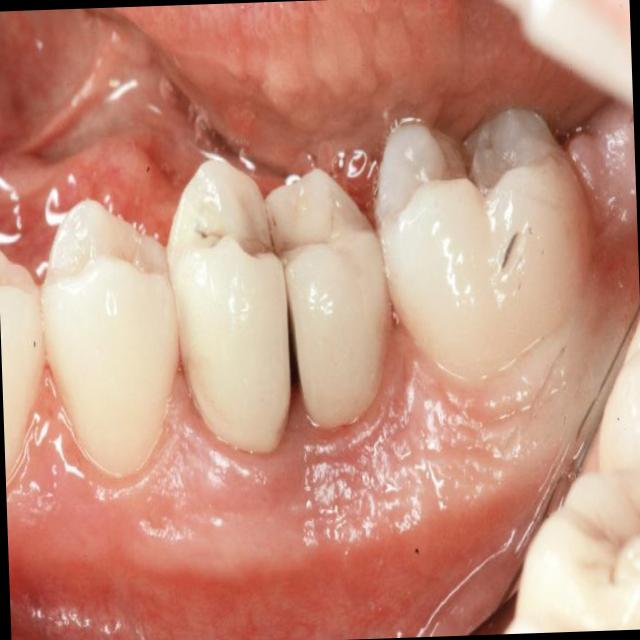Cavity: (502, 233, 517, 268)
Crack: (278, 286, 314, 443)
Tooth: (161, 160, 395, 451), (375, 110, 589, 374), (39, 200, 178, 477), (0, 249, 44, 475)
